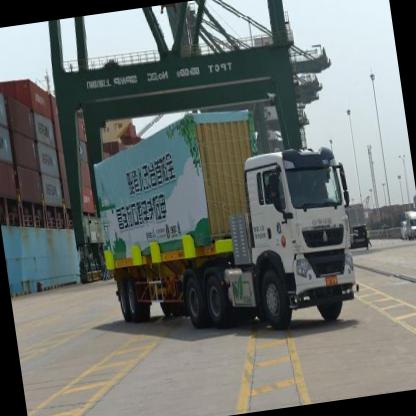truck: (236, 141, 363, 332)
